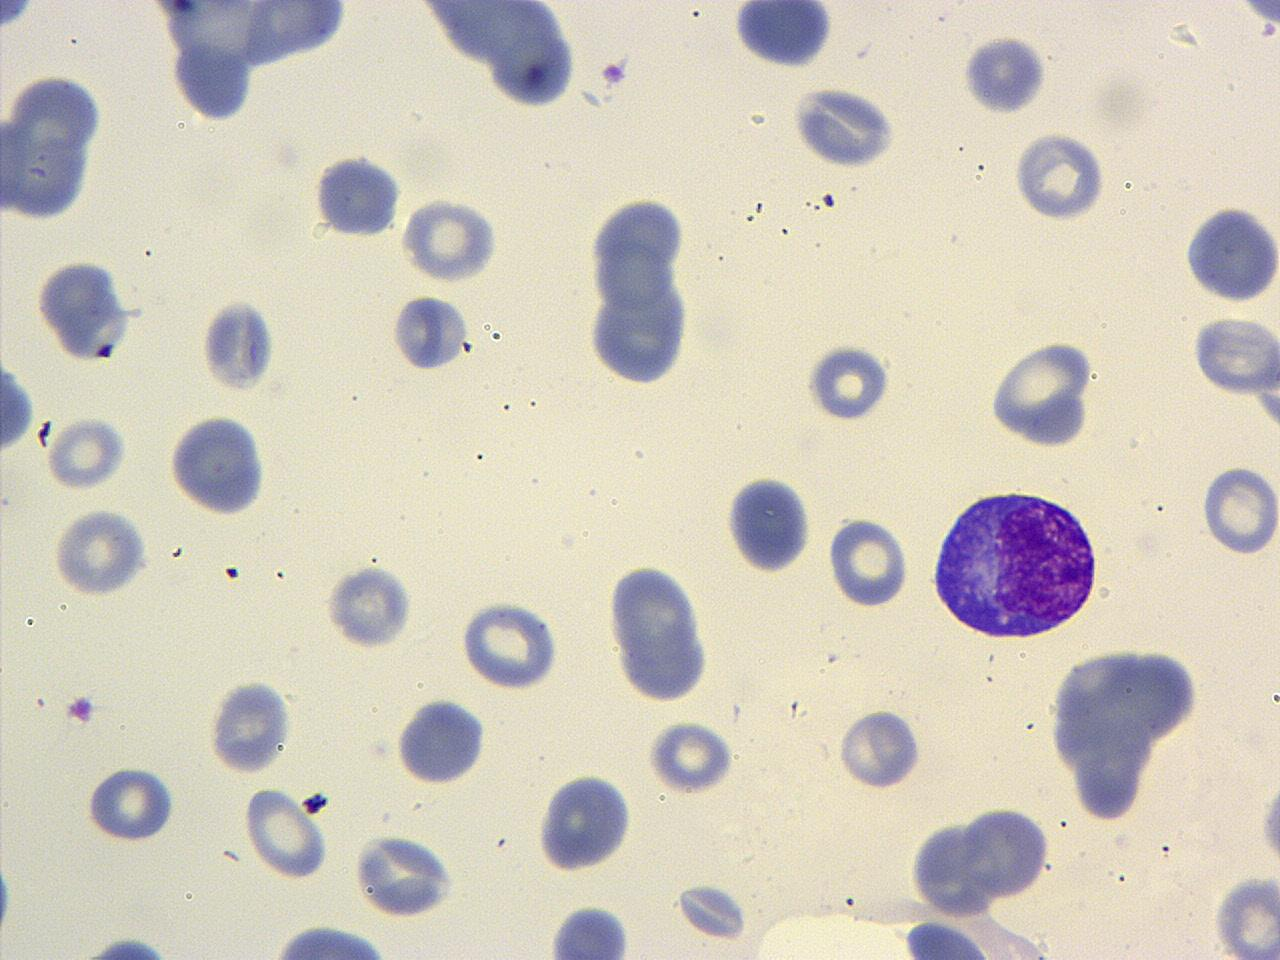Platelets: (988, 336, 1100, 451), (719, 472, 818, 576), (1012, 131, 1110, 224), (205, 676, 296, 774), (310, 150, 406, 244), (321, 563, 416, 651), (801, 338, 896, 425), (959, 30, 1048, 118), (838, 706, 928, 791), (200, 296, 277, 394), (389, 292, 472, 372), (1211, 868, 1279, 960), (544, 902, 637, 959), (71, 934, 177, 960), (1256, 773, 1280, 877), (0, 862, 16, 936), (0, 1, 34, 29), (65, 695, 96, 725), (598, 59, 630, 86), (300, 792, 332, 816), (35, 415, 54, 450), (94, 340, 118, 359), (1259, 17, 1277, 38), (224, 564, 241, 578)
RBC: (986, 335, 1098, 449), (458, 595, 562, 691), (788, 84, 900, 171), (402, 191, 504, 286), (1010, 127, 1110, 224), (351, 832, 456, 918), (50, 505, 148, 597), (323, 560, 416, 652), (825, 511, 913, 609), (241, 784, 329, 881), (1190, 309, 1278, 400), (83, 762, 178, 844), (1199, 460, 1277, 559), (837, 704, 923, 791), (644, 716, 738, 795), (44, 416, 130, 492), (1211, 870, 1280, 960)
WBC: (1044, 638, 1206, 824), (924, 482, 1107, 645), (578, 185, 712, 390), (142, 0, 356, 128), (403, 1, 590, 114), (906, 800, 1056, 920), (0, 70, 113, 226), (602, 556, 716, 708), (986, 334, 1098, 450), (165, 409, 272, 518), (32, 254, 139, 362), (534, 766, 638, 876), (723, 465, 819, 579), (1182, 198, 1280, 308), (791, 85, 901, 171), (392, 696, 492, 790), (309, 150, 408, 242), (732, 1, 838, 72), (243, 920, 415, 958), (545, 901, 633, 960), (892, 918, 1014, 958), (0, 346, 39, 463), (53, 930, 193, 960), (1256, 760, 1280, 884)
